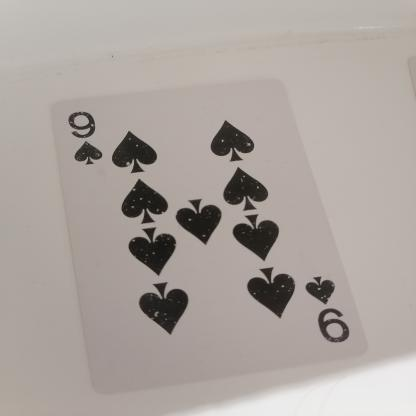9S: (296, 278, 365, 342), (62, 103, 108, 175)
